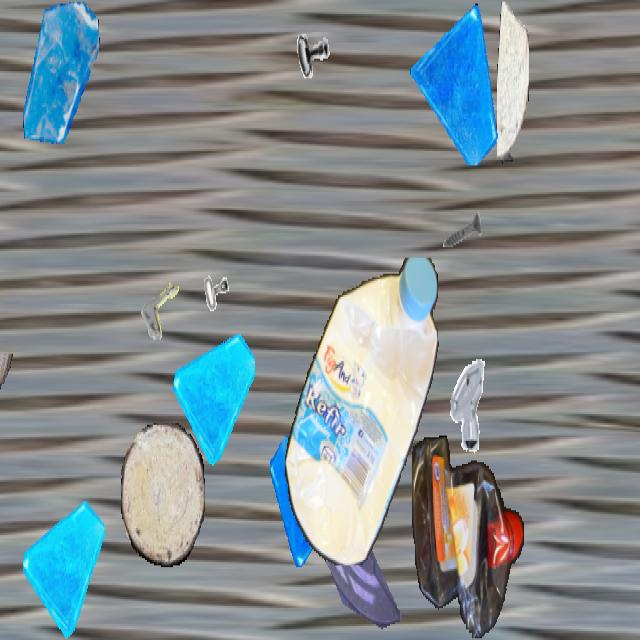glass: (410, 2, 502, 165), (317, 489, 401, 638), (23, 492, 105, 638), (173, 320, 255, 466), (21, 2, 101, 144), (270, 432, 346, 567)
metal: (137, 251, 197, 357), (436, 351, 494, 454), (191, 268, 241, 358), (441, 192, 483, 267), (293, 16, 333, 87)
plastic: (284, 257, 440, 564), (412, 436, 524, 638)
wood: (121, 423, 205, 565), (497, 2, 529, 162), (0, 354, 15, 425)
